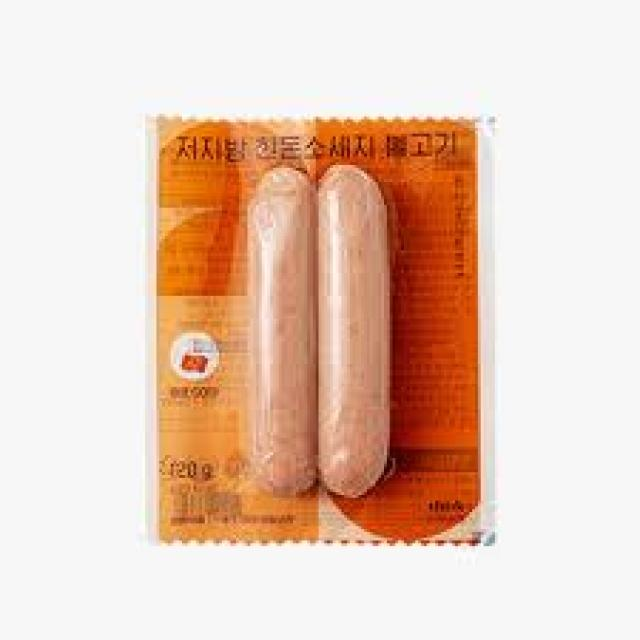sausage: (142, 98, 486, 559)
